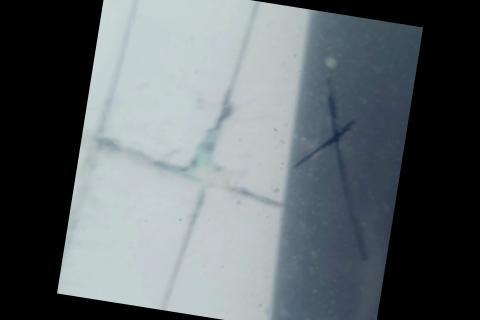keretakan: (281, 72, 398, 262)
